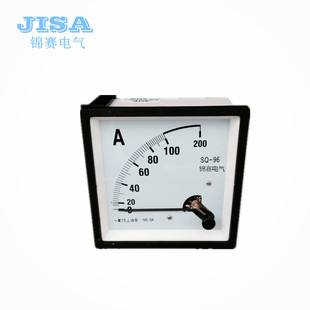pointer: (89, 115, 240, 246)
